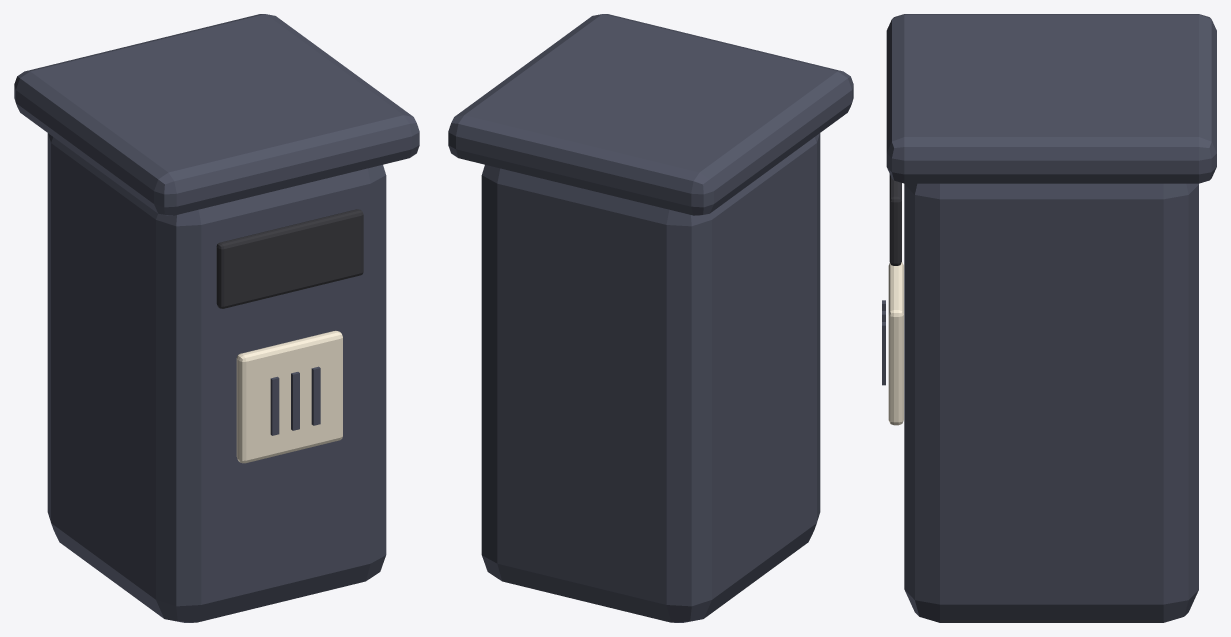
The model's file is litter_bin.glb.
3 views of the same model, side by side, from view 1: azimuth 30°, elevation 25°; view 2: azimuth 150°, elevation 25°; view 3: azimuth 270°, elevation 25° (orthographic). The views are drawn at different scales.
Visible parts, largest first — view 1: litter_bin__Body, litter_bin__Lid, litter_bin__Badge, litter_bin__Opening, litter_bin__Bin symbol, litter_bin__Bin symbol.002; view 2: litter_bin__Body, litter_bin__Lid; view 3: litter_bin__Body, litter_bin__Lid, litter_bin__Badge, litter_bin__Opening.
Boxes of the visible parts, left/top/right/bottom form: litter_bin__Body: left=47, top=133, right=386, bottom=622; litter_bin__Lid: left=14, top=14, right=419, bottom=215; litter_bin__Badge: left=236, top=330, right=342, bottom=463; litter_bin__Opening: left=216, top=209, right=363, bottom=308; litter_bin__Bin symbol: left=270, top=376, right=279, bottom=435; litter_bin__Bin symbol.002: left=311, top=366, right=320, bottom=425; litter_bin__Body: left=481, top=133, right=820, bottom=622; litter_bin__Lid: left=448, top=14, right=853, bottom=215; litter_bin__Body: left=904, top=183, right=1198, bottom=622; litter_bin__Lid: left=886, top=14, right=1216, bottom=183; litter_bin__Badge: left=888, top=262, right=903, bottom=425; litter_bin__Opening: left=889, top=174, right=901, bottom=265.
Size of the model in its own units: 0.128 by 0.218 by 0.1318.
